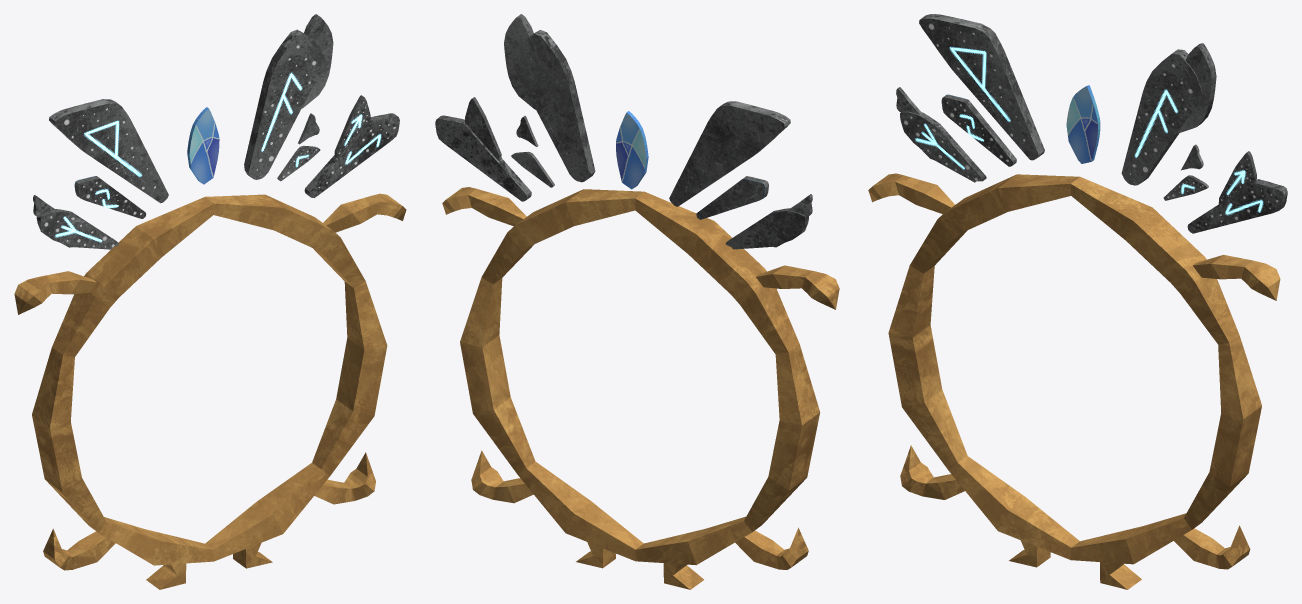
The model's file is rune_altar.fbx.
3 renders of one model, left to right at view 1: azimuth 30°, elevation 25°; view 2: azimuth 150°, elevation 25°; view 3: azimuth 330°, elevation 25°, orthographic. The views are drawn at different scales.
Parts seen in each view (by area): view 1: altar; view 2: altar; view 3: altar.
Part boxes in pixels (left/top/right/bottom): altar: left=14, top=14, right=406, bottom=589; altar: left=435, top=14, right=839, bottom=589; altar: left=868, top=14, right=1287, bottom=589.
Size of the model in its own units: 6.86 by 8.9 by 0.5552.
